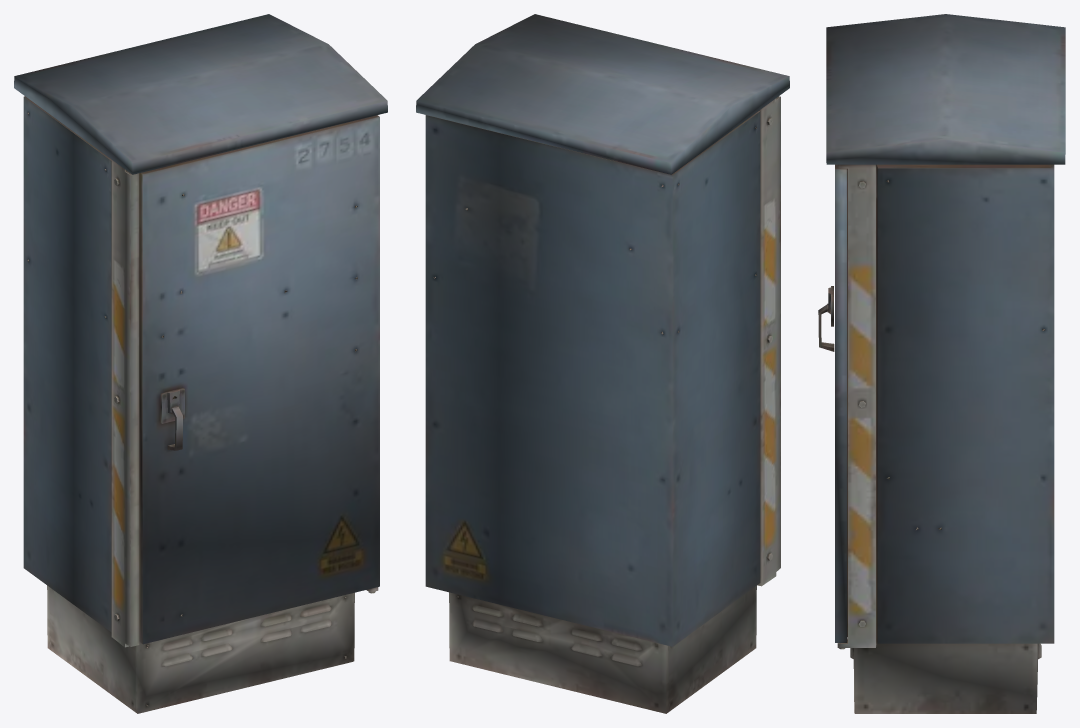
File: utility_box.glb
The picture shows the model from 3 angles, left to right: view 1: azimuth 30°, elevation 25°; view 2: azimuth 150°, elevation 25°; view 3: azimuth 270°, elevation 25°; orthographic projection.
Parts seen in each view (by area): view 1: utility_box_01_box; view 2: utility_box_01_box; view 3: utility_box_01_box.
Boxes of the visible parts, x1=… form: utility_box_01_box: x1=14, y1=14, x2=387, y2=713; utility_box_01_box: x1=416, y1=14, x2=789, y2=713; utility_box_01_box: x1=818, y1=14, x2=1065, y2=713.
Bounding box in the file's own units: 0.5165 × 1.12 × 0.4287.
Materials: 1 (1 with a texture image).
